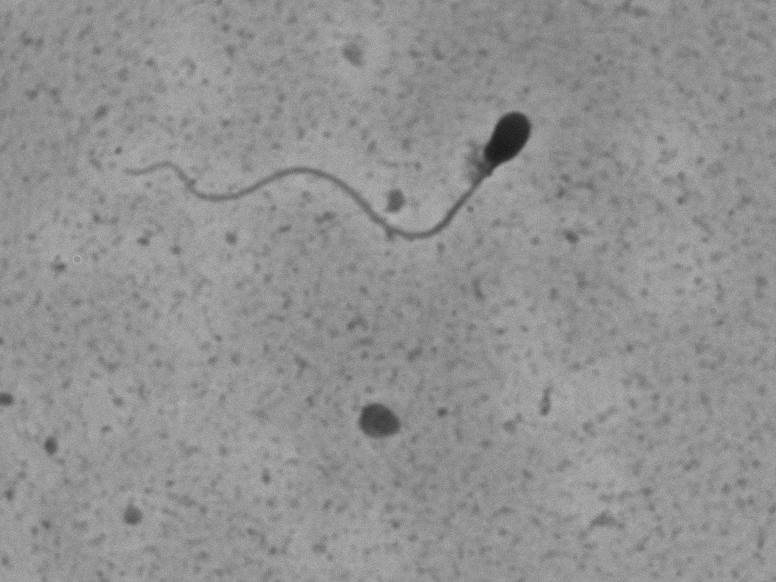Abnormal: (107, 51, 571, 306)
